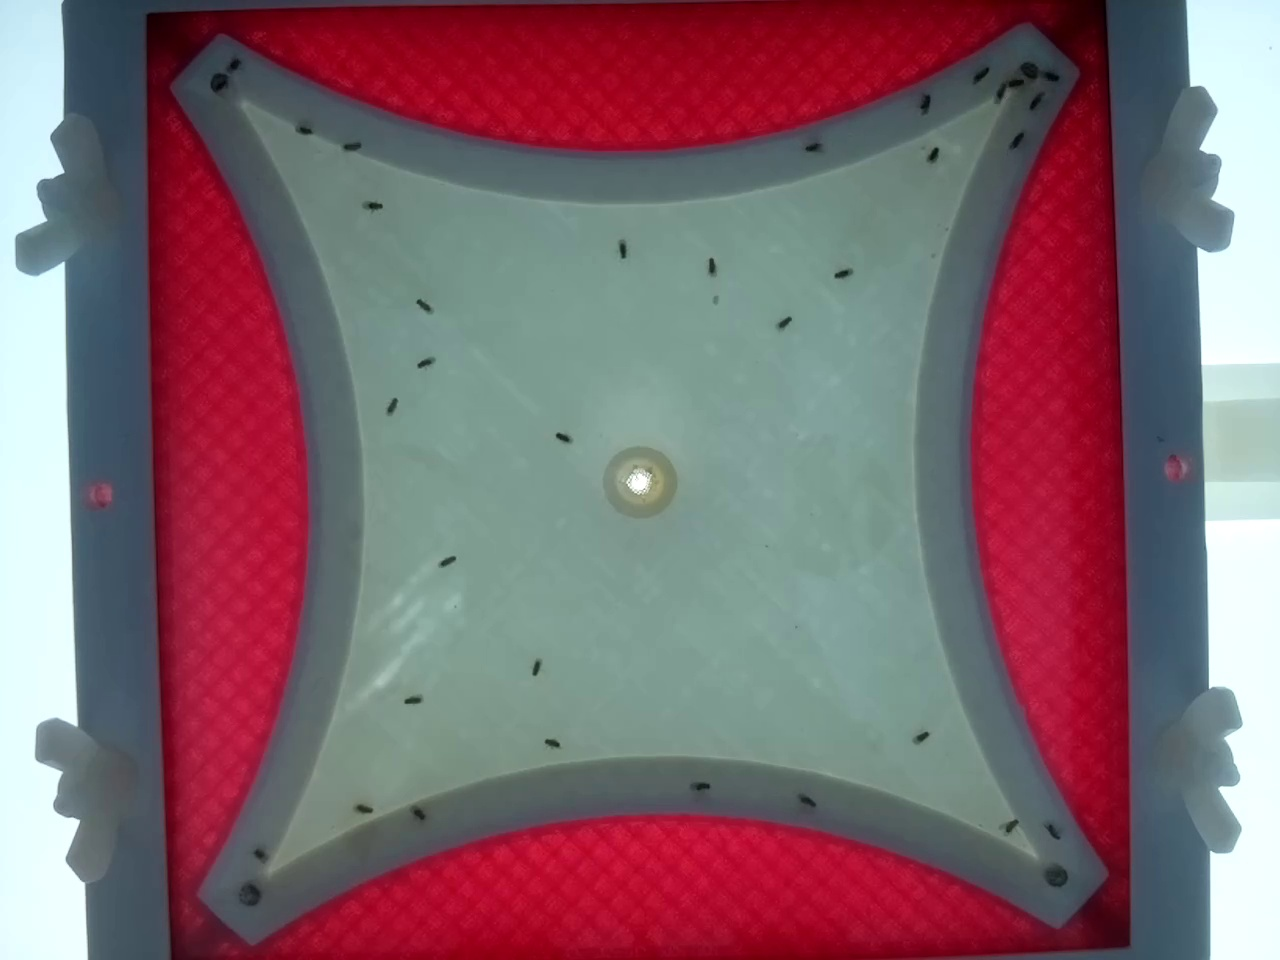fly: (921, 140, 946, 165), (1021, 91, 1046, 116), (360, 193, 385, 218), (610, 236, 635, 261), (1007, 122, 1032, 147), (987, 76, 1012, 101), (1004, 72, 1029, 97), (342, 131, 367, 156), (798, 135, 823, 160), (291, 117, 316, 142), (771, 310, 796, 335), (913, 90, 938, 115), (379, 393, 404, 418), (412, 349, 437, 374), (550, 425, 575, 450), (908, 724, 933, 749), (349, 795, 374, 820), (796, 788, 821, 813), (998, 812, 1023, 837), (401, 687, 426, 712), (1039, 817, 1064, 842), (246, 842, 271, 867), (540, 730, 565, 755), (406, 801, 431, 826), (1037, 65, 1062, 90), (220, 50, 245, 75), (699, 254, 724, 279), (411, 293, 436, 318), (969, 61, 994, 85), (830, 260, 855, 285), (434, 549, 459, 574), (523, 654, 548, 679), (240, 878, 265, 903), (687, 773, 712, 798)
